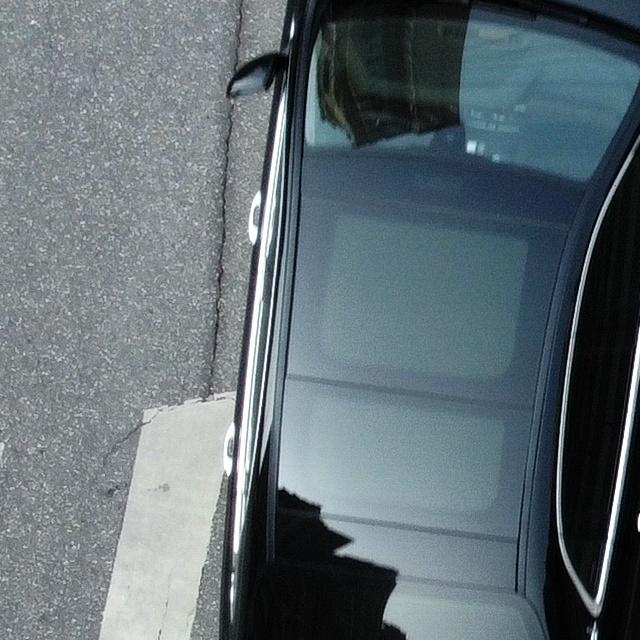LongitudinalCrack: (202, 2, 247, 400)
